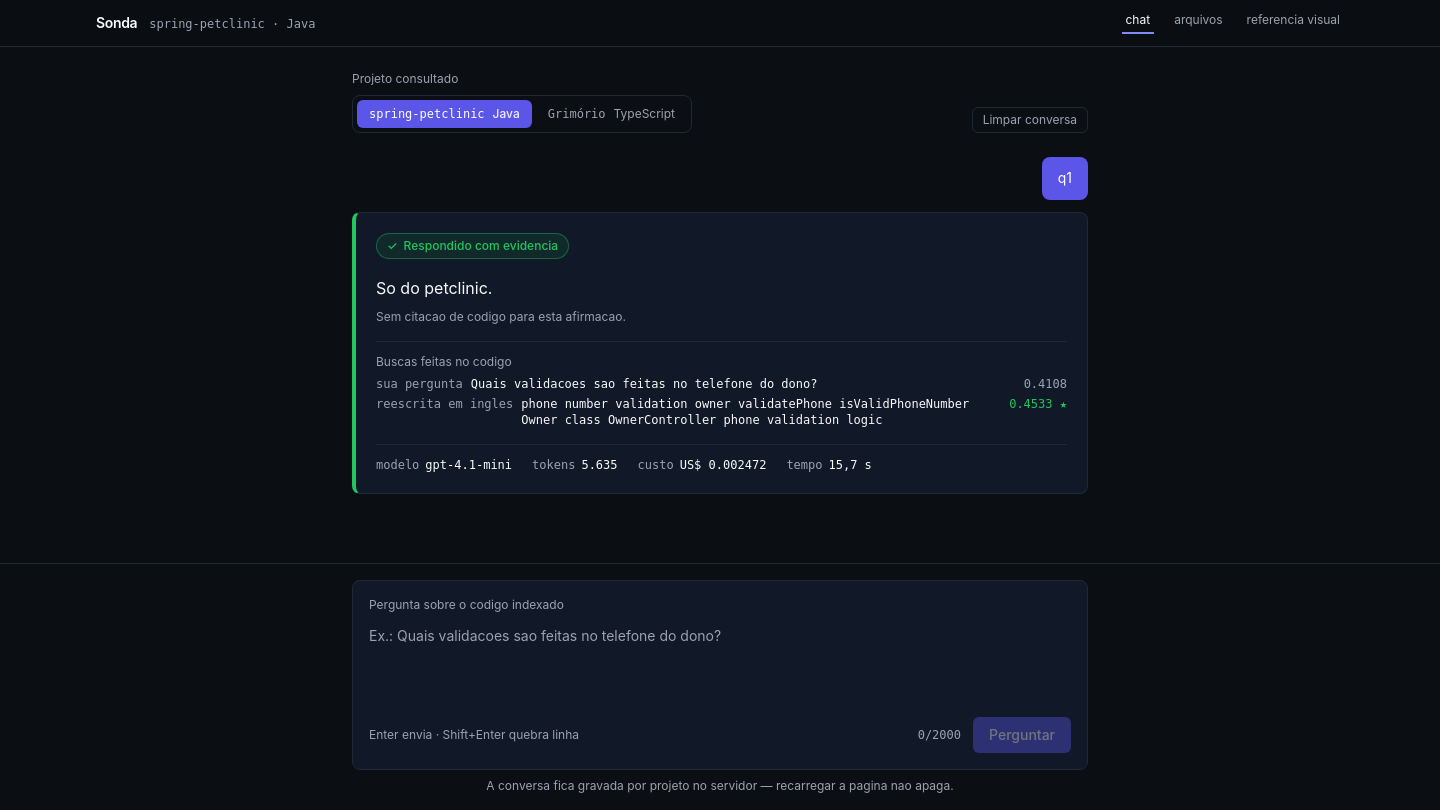
it: conversa vem do backend › busca de novo ao trocar de projeto, e cada um traz o seu
expect the text "So do petclinic." is shown: met, box [376,278,492,298]
Click the tab "Grimório TypeScript": (611, 114) [536,100,687,128]
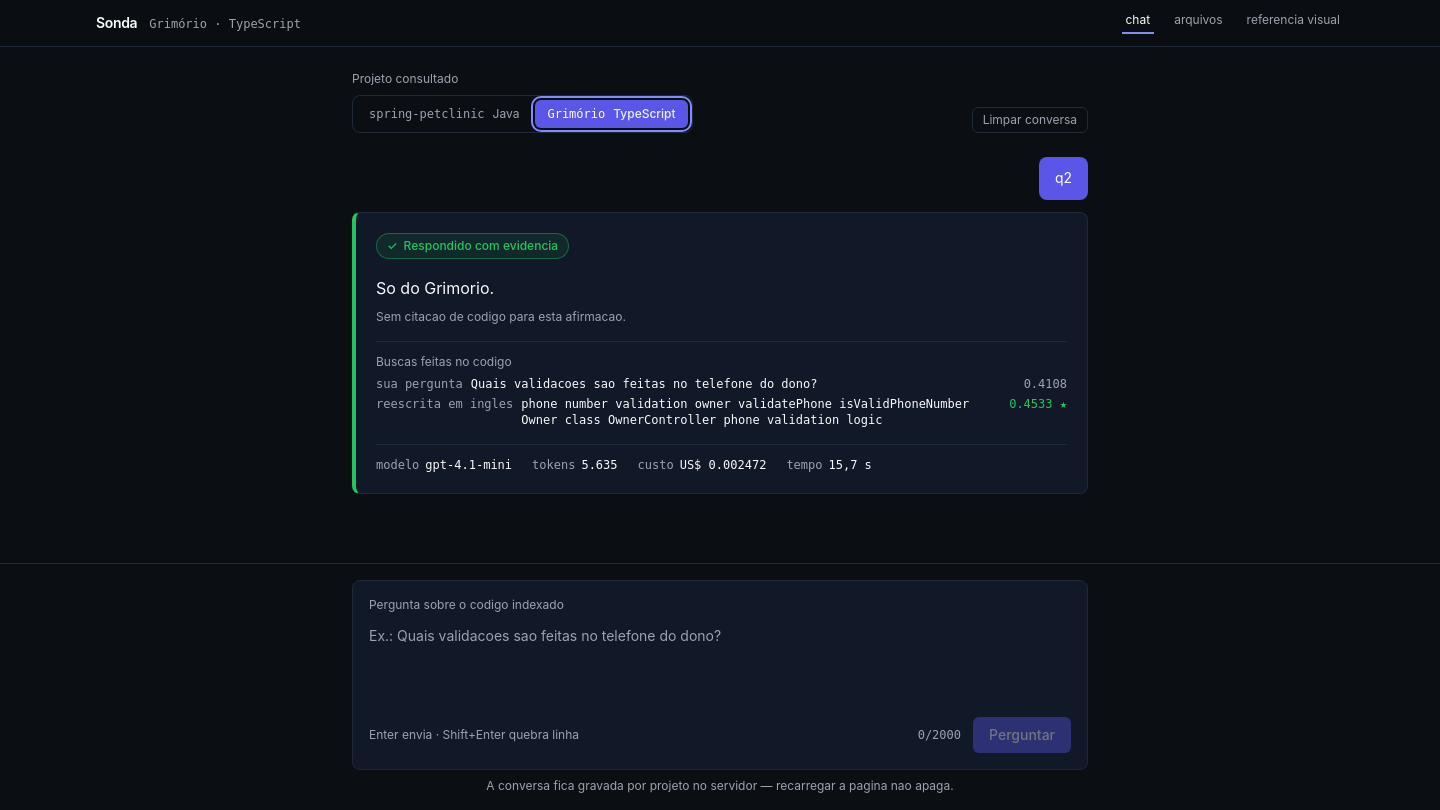
expect the text "So do Grimorio." is shown: met, box [376,278,494,298]
expect the text "So do petclinic." is gone: met
